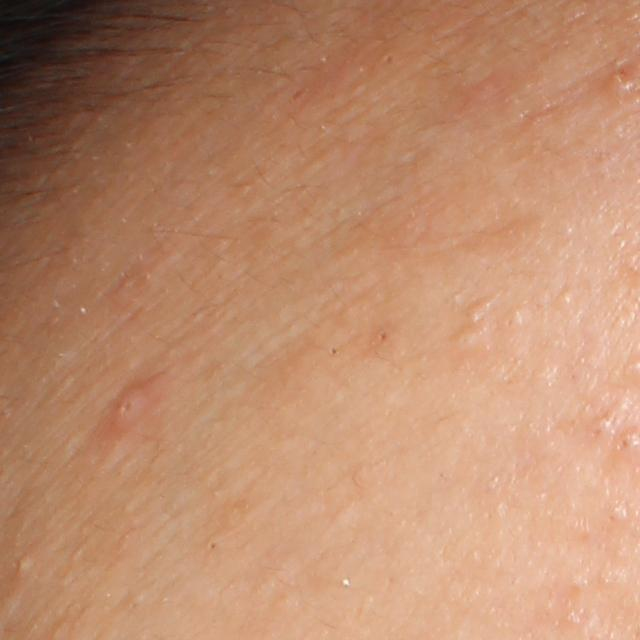comedo: (6, 546, 40, 576), (503, 305, 536, 333), (465, 296, 496, 324), (611, 72, 637, 99), (449, 327, 477, 350), (555, 288, 577, 314), (205, 530, 226, 554), (372, 325, 394, 347), (606, 505, 631, 524), (324, 340, 344, 362)
papule: (100, 379, 151, 438)
